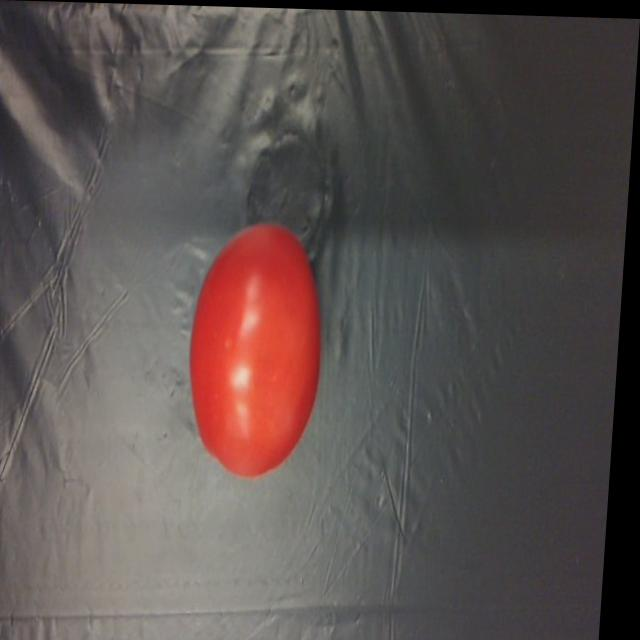kirmizi: (170, 207, 345, 492)
